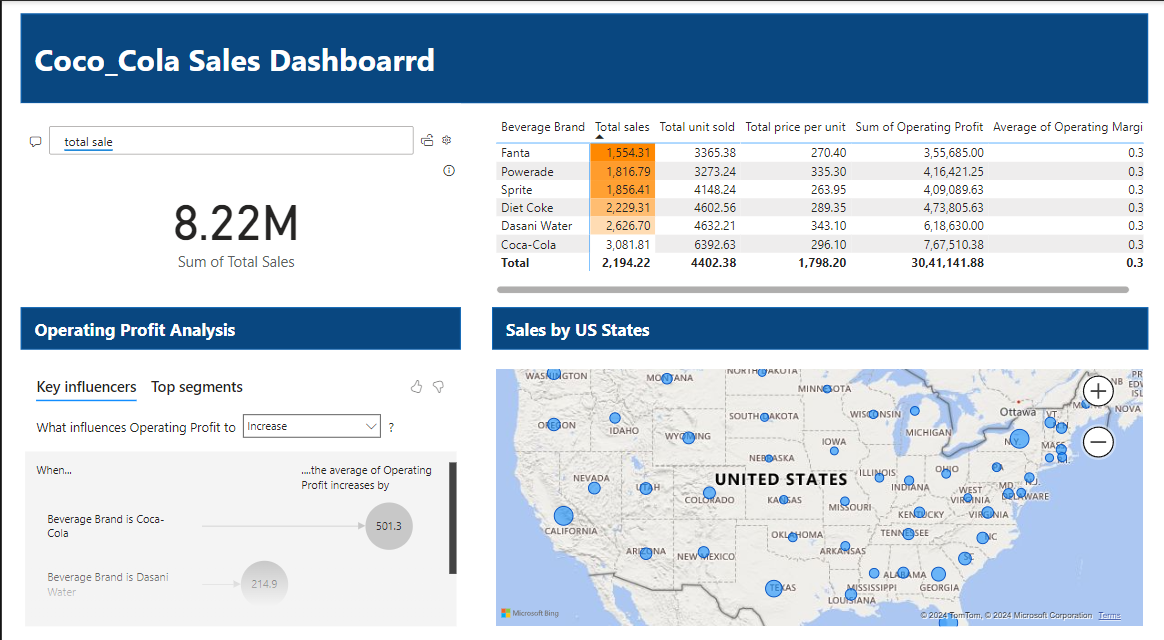

Layout of this report page (visuals, bound fields, positions):
{"tool":"powerbi","page":{"name":"Page 1","canvas":[1280,720],"ordinal":0},"visuals":[{"type":"shape","box":[20.6,13.7,1237.7,98.8],"z":0},{"type":"shape","box":[20.6,336.2,483,46.7],"z":1},{"type":"shape","box":[537.9,336.2,720.4,46.7],"z":2},{"type":"qnaVisual","box":[20.6,112.5,483,203.1],"z":3},{"type":"keyDriversVisual","fields":{"Target":["Data.Operating Profit"],"ExplainBy":["Data.Beverage Brand"]},"box":[20.6,399.3,483,292.3],"z":4},{"type":"map","fields":{"Category":["Data.State"],"Size":["Sum(Data.Total Sales)"]},"box":[537.9,399.3,720.4,292.3],"z":5},{"type":"pivotTable","fields":{"Rows":["Data.Beverage Brand"],"Values":["Avg(Data.Total Sales)","Avg(Data.Units Sold)","Sum(Data.Price per Unit)","Sum(Data.Operating Profit)","Avg(Data.Operating Margin)"]},"box":[537.9,122.1,720.4,204.5],"z":6}]}

Visuals, with their boxes in screenshot pixels (x1, y1, x2, y2):
shape: select_region(0, 9, 1084, 96)
shape: select_region(0, 291, 423, 332)
shape: select_region(453, 291, 1084, 332)
qnaVisual: select_region(0, 96, 423, 273)
keyDriversVisual - Data.Operating Profit x Data.Beverage Brand: select_region(0, 347, 423, 603)
map - Data.State x Sum(Data.Total Sales): select_region(453, 347, 1084, 603)
pivotTable - Data.Beverage Brand x Avg(Data.Total Sales): select_region(453, 104, 1084, 283)
